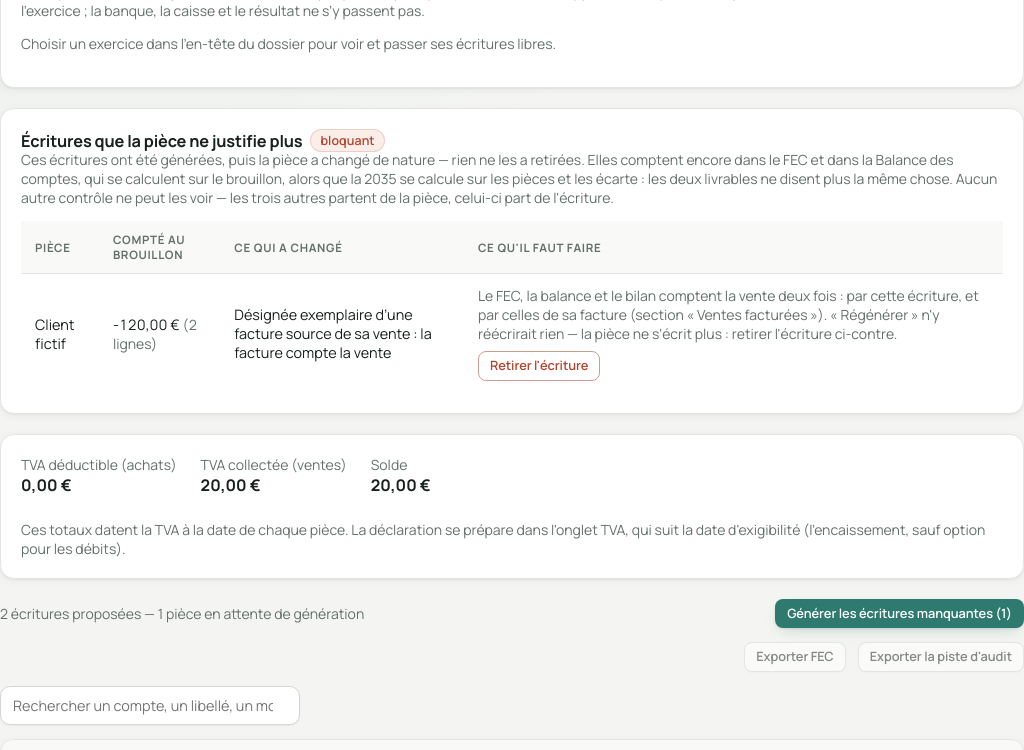
Scenario: l’écriture déjà passée sur l’exemplaire est sans objet, et se retire › se dit sous son motif, se retire sur un clic confirmé qui nomme la pièce et la facture, et la carte se tait
(page scrolled)
Expected: the text "2 écritures proposées — 1 pièce en attente de génération" is shown, [0, 604, 364, 623]
Expected: the element that starts with "Écritures que la pièce ne justifie plus" is shown, [0, 108, 1023, 414]
Step 1. Click the button "Retirer l'écriture" → [539, 366], box [478, 352, 600, 381]
(page scrolled)
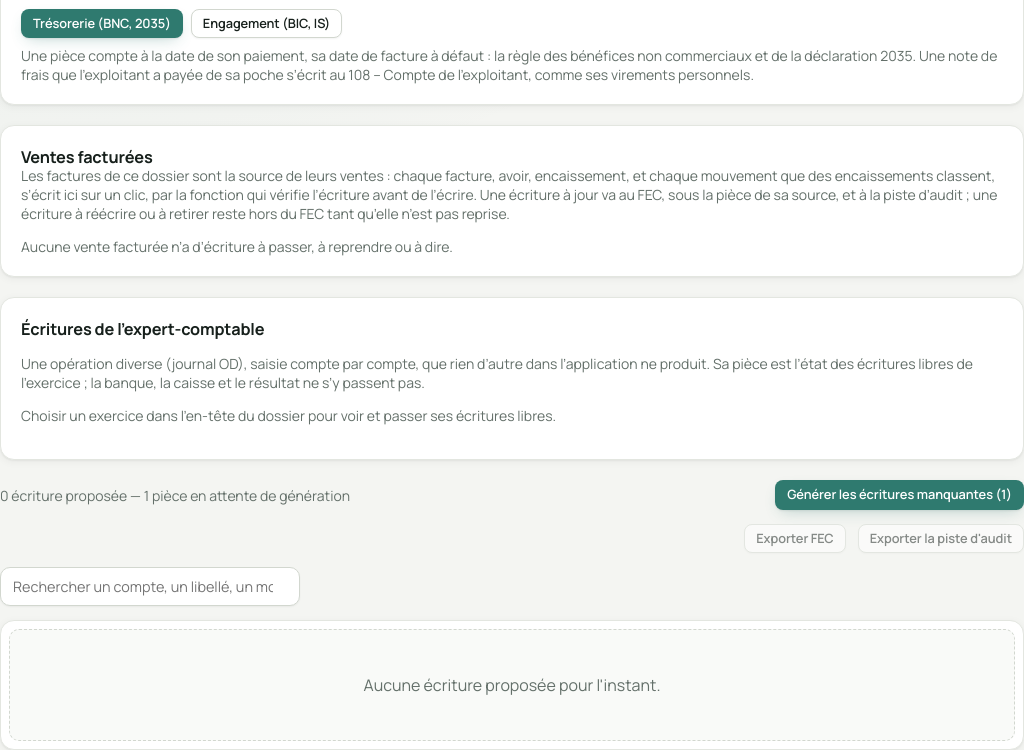
Expected: the button "Générer les écritures manquantes (1)" is shown, [775, 480, 1023, 510]
Expected: the heading "Écritures que la pièce ne justifie plus" is gone
